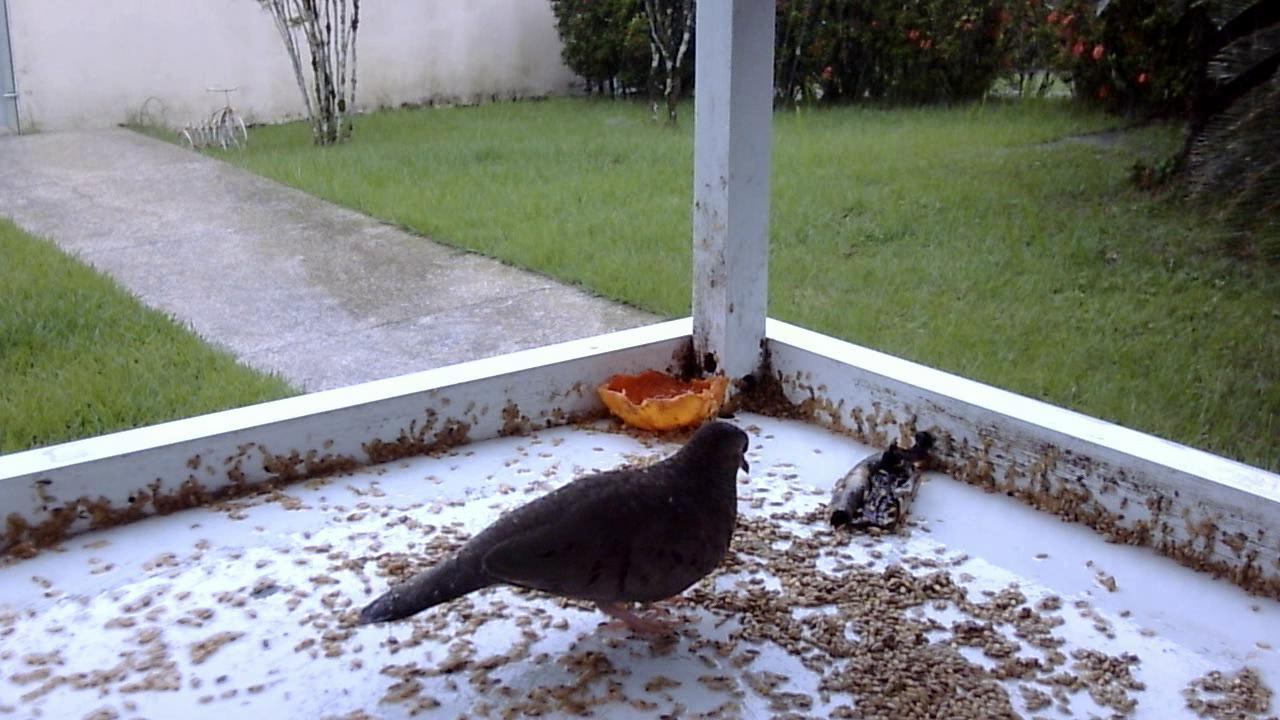rolinha: (348, 412, 767, 655)
